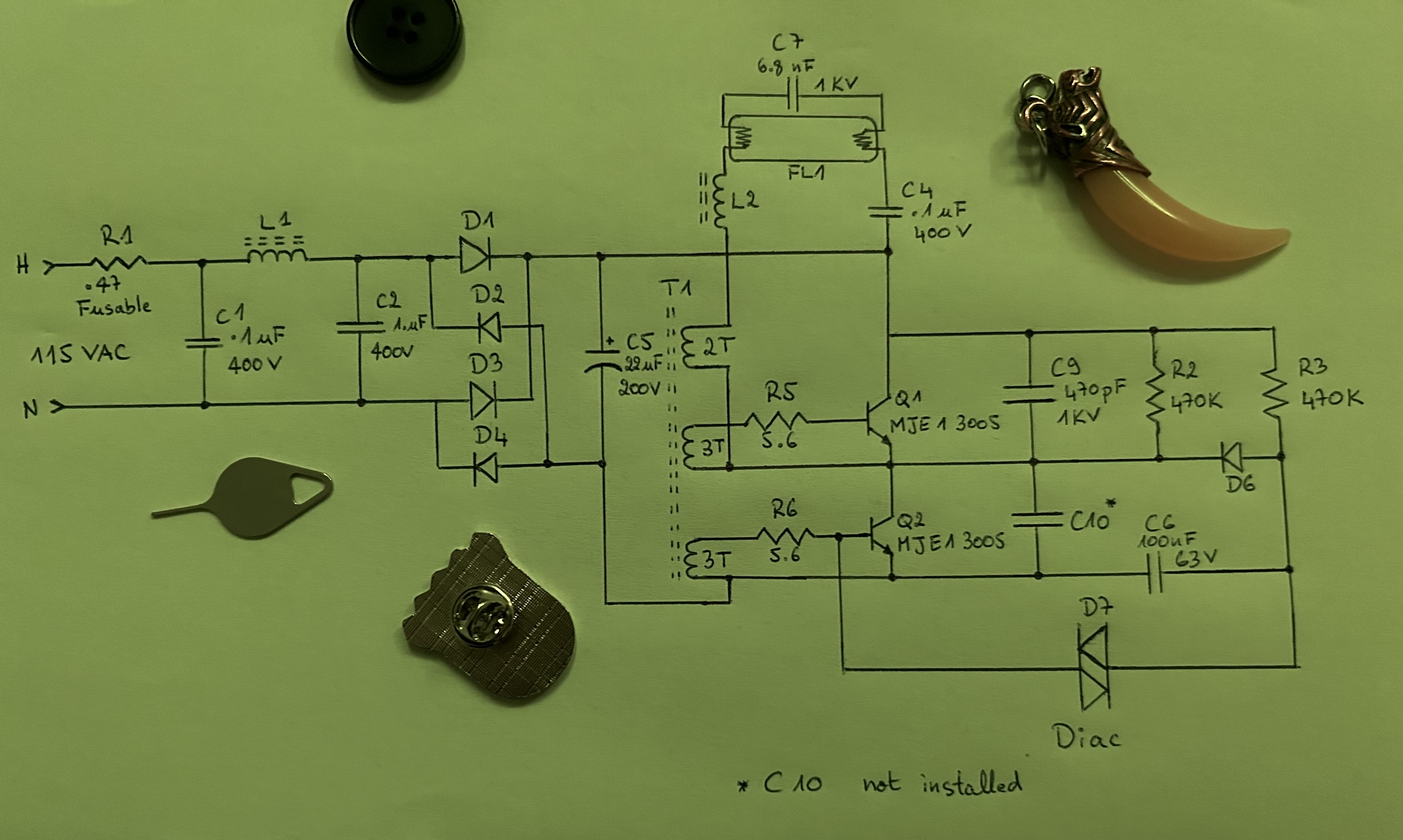capacitor.polarized: (581, 336, 624, 378)
capacitor.unpolarized: (1000, 381, 1057, 407), (1009, 508, 1066, 531), (1142, 550, 1167, 597), (333, 318, 387, 336), (866, 202, 906, 222), (784, 74, 804, 113), (182, 335, 225, 352)
crossover: (720, 246, 736, 261), (833, 571, 847, 584), (723, 420, 736, 432), (524, 321, 534, 332)
diac: (1074, 620, 1113, 718)
diode: (456, 234, 493, 276), (467, 378, 498, 423), (469, 449, 502, 488), (1217, 438, 1246, 477), (475, 310, 503, 347)
inductor: (696, 169, 730, 233), (242, 234, 309, 264), (664, 323, 697, 373), (668, 536, 701, 584), (667, 422, 696, 474)
junction: (1273, 449, 1288, 465), (1151, 451, 1166, 466), (1146, 324, 1161, 338), (198, 397, 212, 411), (1022, 326, 1036, 340), (195, 256, 209, 270), (354, 395, 368, 409), (1266, 322, 1280, 336), (1283, 562, 1297, 576), (831, 530, 845, 544), (880, 244, 894, 258), (540, 456, 554, 470), (520, 250, 534, 263), (423, 252, 437, 265), (722, 594, 735, 608), (723, 571, 737, 584), (593, 250, 607, 263), (1031, 568, 1044, 581), (351, 252, 364, 265), (885, 571, 898, 584), (1027, 455, 1040, 468), (1289, 660, 1302, 672), (884, 458, 896, 471), (724, 460, 735, 474), (596, 457, 608, 469), (430, 396, 441, 407), (433, 461, 444, 472), (839, 664, 849, 675), (884, 329, 894, 340), (537, 320, 547, 331), (722, 363, 734, 372), (526, 394, 536, 404), (601, 598, 611, 608), (723, 321, 734, 330), (719, 90, 728, 100), (877, 91, 886, 100), (429, 323, 438, 332)
resistor: (1257, 364, 1291, 423), (1142, 363, 1168, 431), (744, 408, 810, 434), (754, 524, 816, 549), (86, 252, 150, 273)
terminal: (39, 258, 57, 276), (47, 397, 66, 414)
text: (736, 763, 1031, 801), (896, 529, 1008, 555), (889, 412, 1003, 435), (28, 341, 132, 366), (1049, 719, 1123, 753), (73, 294, 154, 319), (1060, 377, 1127, 405), (1299, 385, 1367, 411), (229, 324, 288, 349), (756, 54, 816, 78), (1171, 389, 1226, 415), (911, 221, 972, 244), (911, 198, 970, 221), (227, 352, 283, 374), (617, 377, 675, 398), (1136, 531, 1196, 551), (1068, 507, 1112, 533), (1057, 404, 1104, 428), (1078, 593, 1116, 619), (368, 341, 415, 362), (622, 352, 665, 374), (1172, 548, 1219, 568), (471, 423, 510, 447), (467, 350, 504, 375), (763, 378, 800, 403), (469, 282, 506, 306), (460, 208, 497, 232), (768, 30, 805, 54), (99, 223, 135, 247), (257, 209, 293, 233), (816, 74, 861, 93), (84, 274, 125, 294), (759, 430, 798, 451), (699, 335, 736, 357), (1296, 354, 1330, 377), (730, 187, 761, 212), (658, 277, 693, 299), (1050, 354, 1082, 378), (214, 302, 246, 326), (787, 162, 825, 182), (1169, 357, 1200, 381), (700, 547, 732, 570), (392, 313, 427, 334), (901, 179, 934, 201), (1143, 512, 1177, 533), (1223, 473, 1257, 494), (770, 497, 800, 519), (626, 330, 657, 351), (374, 288, 403, 310), (896, 511, 926, 531), (768, 546, 803, 563), (894, 388, 922, 409), (13, 248, 32, 278), (698, 438, 726, 457), (20, 396, 41, 421)
transistor.bjt: (863, 393, 897, 445), (865, 510, 898, 557)
